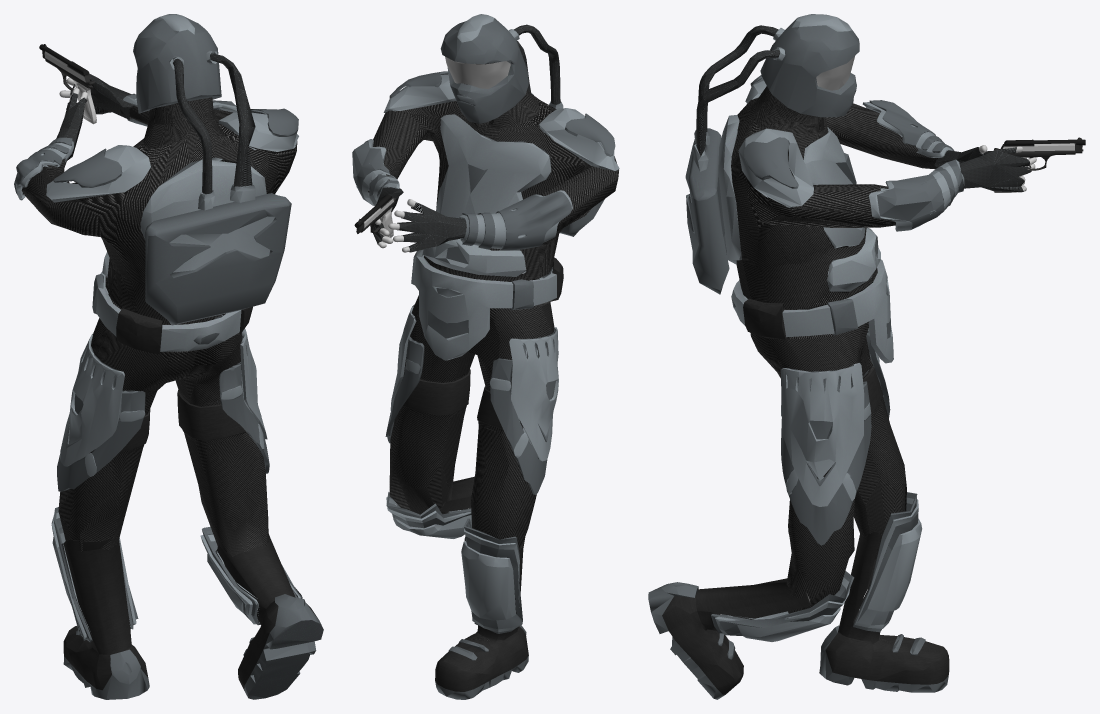
3 renders of one model, left to right at view 1: azimuth 30°, elevation 25°; view 2: azimuth 150°, elevation 25°; view 3: azimuth 270°, elevation 25°, orthographic. The views are drawn at different scales.
Visible parts, largest first — view 1: personajeskefix:personaje:extrudedSurface2 polySurface82, personajeskefix:personaje:PANTALON polySurface82, personajeskefix:personaje:bota1 polySurface82, personajeskefix:personaje:CAMISETABUENA polySurface82, personajeskefix:personaje:pPipe4 polySurface82, personajeskefix:personaje:pCube4 polySurface82, personajeskefix:personaje:cosoarmdaurapierna1 polySurface82, personajeskefix:personaje:cinturon polySurface82, personajeskefix:personaje:polySurface6 polySurface82, personajeskefix:personaje:armadbota1 polySurface82, personajeskefix:personaje:cosoarmadurapierna2 polySurface82, personajeskefix:personaje:HOMBRO2 polySurface82 (+5 smaller); view 2: personajeskefix:personaje:pPipe4 polySurface82, personajeskefix:personaje:PANTALON polySurface82, personajeskefix:personaje:CAMISETABUENA polySurface82, personajeskefix:personaje:cinturon polySurface82, personajeskefix:personaje:extrudedSurface2 polySurface82, personajeskefix:personaje:pCube4 polySurface82, personajeskefix:personaje:bota1 polySurface82, personajeskefix:personaje:armadbota1 polySurface82, personajeskefix:personaje:cosoarmdaurapierna1 polySurface82, personajeskefix:personaje:polySurface2 polySurface82, personajeskefix:personaje:polySurface6 polySurface82, personajeskefix:personaje:gafas polySurface82 (+8 smaller); view 3: personajeskefix:personaje:CAMISETABUENA polySurface82, personajeskefix:personaje:bota1 polySurface82, personajeskefix:personaje:pPipe4 polySurface82, personajeskefix:personaje:extrudedSurface2 polySurface82, personajeskefix:personaje:pCube4 polySurface82, personajeskefix:personaje:PANTALON polySurface82, personajeskefix:personaje:cinturon polySurface82, personajeskefix:personaje:armadbota1 polySurface82, personajeskefix:personaje:cosoarmadurapierna2 polySurface82, personajeskefix:personaje:hombro1 polySurface82, pistola:Cylinder001 polySurface82, personajeskefix:personaje:polySurface2 polySurface82 (+4 smaller).
Boxes of the visible parts, <box> form: personajeskefix:personaje:extrudedSurface2 polySurface82: <box>133,14,291,325</box>; personajeskefix:personaje:PANTALON polySurface82: <box>58,294,268,578</box>; personajeskefix:personaje:bota1 polySurface82: <box>63,534,323,699</box>; personajeskefix:personaje:CAMISETABUENA polySurface82: <box>21,97,297,352</box>; personajeskefix:personaje:pPipe4 polySurface82: <box>43,73,298,277</box>; personajeskefix:personaje:pCube4 polySurface82: <box>53,315,302,642</box>; personajeskefix:personaje:cosoarmdaurapierna1 polySurface82: <box>60,334,145,476</box>; personajeskefix:personaje:cinturon polySurface82: <box>92,272,252,354</box>; personajeskefix:personaje:polySurface6 polySurface82: <box>119,390,246,452</box>; personajeskefix:personaje:armadbota1 polySurface82: <box>51,512,300,639</box>; personajeskefix:personaje:cosoarmadurapierna2 polySurface82: <box>217,362,269,473</box>; personajeskefix:personaje:HOMBRO2 polySurface82: <box>53,148,121,187</box>; personajeskefix:personaje:pPipe4 polySurface82: <box>352,74,619,276</box>; personajeskefix:personaje:PANTALON polySurface82: <box>389,273,554,550</box>; personajeskefix:personaje:CAMISETABUENA polySurface82: <box>368,62,618,308</box>; personajeskefix:personaje:cinturon polySurface82: <box>411,249,563,360</box>; personajeskefix:personaje:extrudedSurface2 polySurface82: <box>440,14,604,236</box>; personajeskefix:personaje:pCube4 polySurface82: <box>386,304,555,633</box>; personajeskefix:personaje:bota1 polySurface82: <box>435,476,528,699</box>; personajeskefix:personaje:armadbota1 polySurface82: <box>386,497,520,632</box>; personajeskefix:personaje:cosoarmdaurapierna1 polySurface82: <box>489,327,558,461</box>; personajeskefix:personaje:polySurface2 polySurface82: <box>462,191,571,250</box>; personajeskefix:personaje:polySurface6 polySurface82: <box>403,369,502,429</box>; personajeskefix:personaje:gafas polySurface82: <box>445,56,510,88</box>; personajeskefix:personaje:CAMISETABUENA polySurface82: <box>731,86,943,338</box>; personajeskefix:personaje:bota1 polySurface82: <box>648,531,949,699</box>; personajeskefix:personaje:pPipe4 polySurface82: <box>718,78,1031,291</box>; personajeskefix:personaje:extrudedSurface2 polySurface82: <box>685,14,859,294</box>; personajeskefix:personaje:pCube4 polySurface82: <box>711,328,918,635</box>; personajeskefix:personaje:PANTALON polySurface82: <box>750,276,906,613</box>; personajeskefix:personaje:cinturon polySurface82: <box>731,259,893,363</box>; personajeskefix:personaje:armadbota1 polySurface82: <box>715,497,922,641</box>; personajeskefix:personaje:cosoarmadurapierna2 polySurface82: <box>781,375,871,545</box>; personajeskefix:personaje:hombro1 polySurface82: <box>744,137,798,188</box>; pistola:Cylinder001 polySurface82: <box>993,137,1085,192</box>; personajeskefix:personaje:polySurface2 polySurface82: <box>869,100,954,152</box>.
Bounding box in the file's own units: 3.65 × 9.48 × 5.51.
